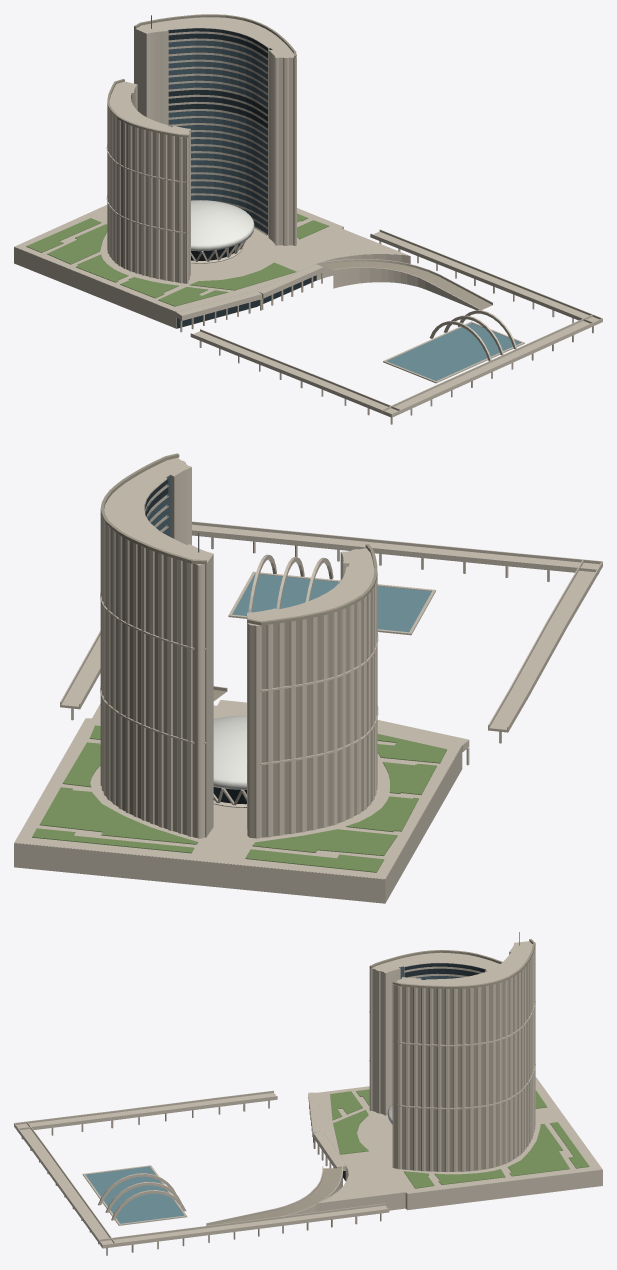
Rendered from toronto-city-hall-far.glb.
3 views of the same model, one above another, from view 1: azimuth 30°, elevation 25°; view 2: azimuth 150°, elevation 25°; view 3: azimuth 270°, elevation 25° (orthographic). The views are drawn at different scales.
Parts seen in each view (by area): view 1: toronto-city-hall-0-concrete, toronto-city-hall-0-glass, toronto-city-hall-0-concreteDark, toronto-city-hall-0-grass, toronto-city-hall-0-darkGlass, toronto-city-hall-0-water, toronto-city-hall-0-dome; view 2: toronto-city-hall-0-concrete, toronto-city-hall-0-concreteDark, toronto-city-hall-0-grass, toronto-city-hall-0-water, toronto-city-hall-0-dome, toronto-city-hall-0-darkGlass; view 3: toronto-city-hall-0-concrete, toronto-city-hall-0-concreteDark, toronto-city-hall-0-grass, toronto-city-hall-0-water, toronto-city-hall-0-darkGlass.
Part boxes in pixels (x1,y1,x2,y2): toronto-city-hall-0-concrete: [14, 17, 602, 424]; toronto-city-hall-0-glass: [168, 40, 271, 233]; toronto-city-hall-0-concreteDark: [107, 14, 492, 310]; toronto-city-hall-0-grass: [26, 213, 329, 306]; toronto-city-hall-0-darkGlass: [131, 28, 316, 328]; toronto-city-hall-0-water: [386, 323, 520, 380]; toronto-city-hall-0-dome: [191, 200, 254, 251]; toronto-city-hall-0-concrete: [14, 457, 602, 903]; toronto-city-hall-0-concreteDark: [100, 453, 377, 838]; toronto-city-hall-0-grass: [32, 725, 446, 872]; toronto-city-hall-0-water: [232, 573, 431, 632]; toronto-city-hall-0-dome: [213, 715, 246, 789]; toronto-city-hall-0-darkGlass: [145, 479, 246, 804]; toronto-city-hall-0-concrete: [14, 941, 602, 1255]; toronto-city-hall-0-concreteDark: [206, 939, 535, 1225]; toronto-city-hall-0-grass: [330, 1089, 589, 1188]; toronto-city-hall-0-water: [85, 1166, 184, 1223]; toronto-city-hall-0-darkGlass: [343, 963, 485, 1180].
Bounding box in the file's own units: 187 × 105 × 264.
